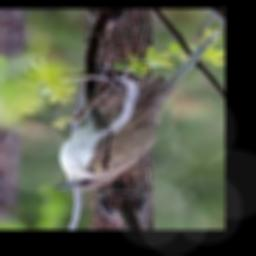Cuckoo: (52, 29, 220, 191)
